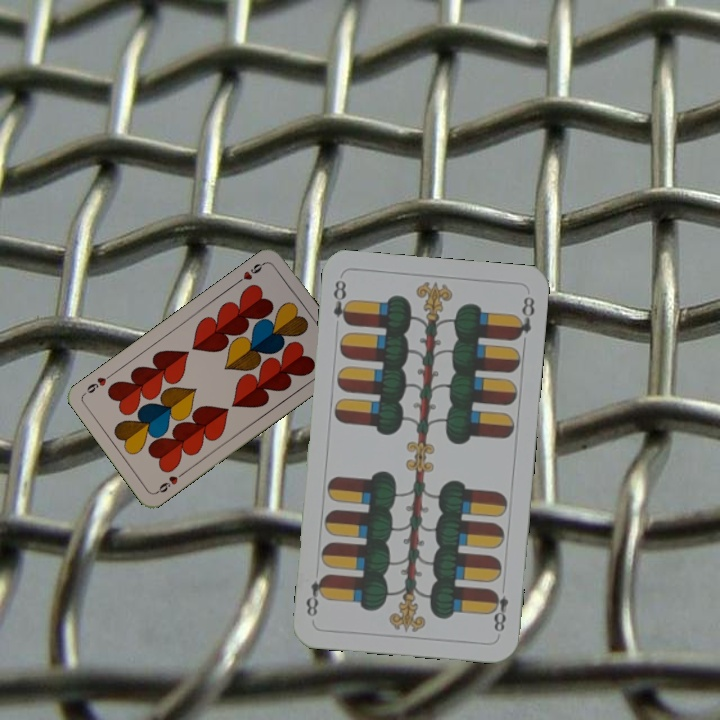E8: (329, 276, 354, 328), (487, 586, 511, 635)
H9: (152, 468, 187, 496), (233, 258, 268, 286)
